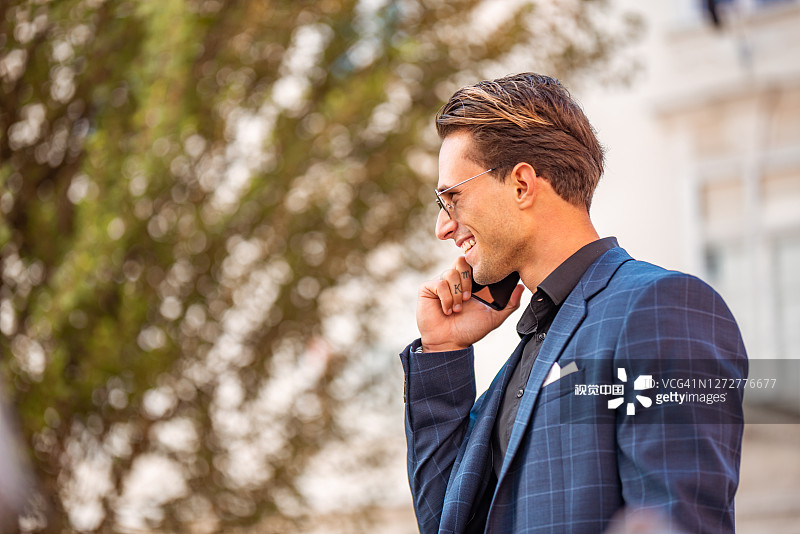calling: (396, 238, 533, 369)
